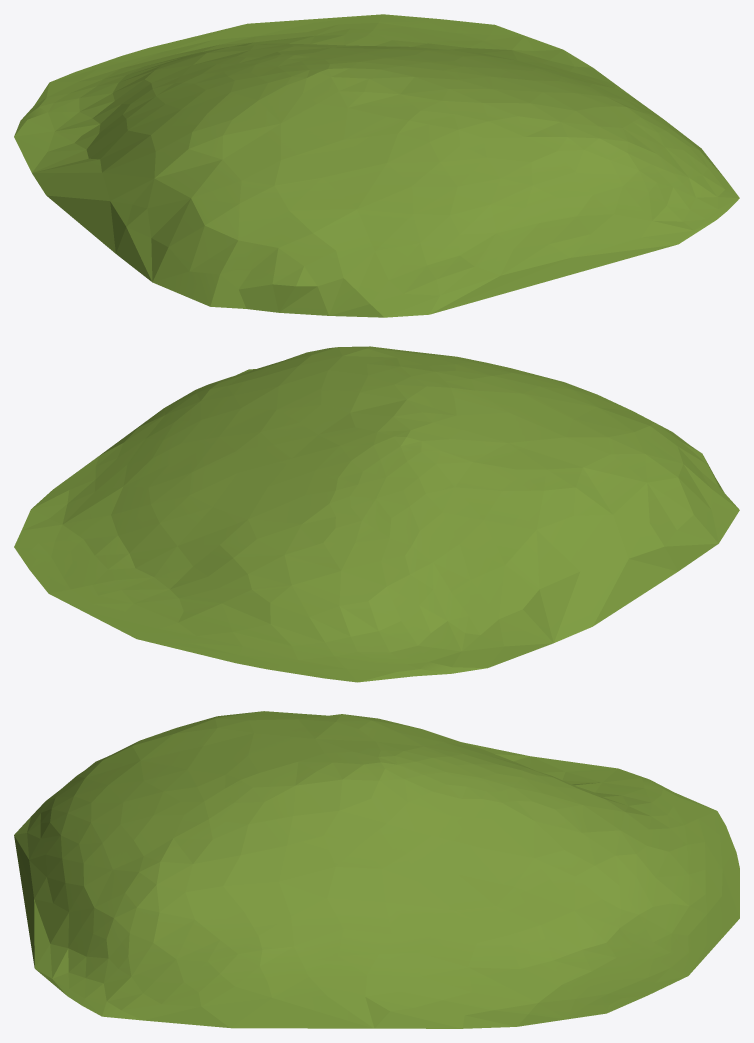
The model's file is Mesh_Landscape_Hill_03.FBX.
3 views of the same model, one above another, from view 1: azimuth 30°, elevation 25°; view 2: azimuth 150°, elevation 25°; view 3: azimuth 270°, elevation 25° (orthographic). The views are drawn at different scales.
Visible parts, largest first — view 1: Mesh_Landscape_Hill_03; view 2: Mesh_Landscape_Hill_03; view 3: Mesh_Landscape_Hill_03.
Boxes of the visible parts, x1,y1,x2,y2 form: Mesh_Landscape_Hill_03: (14,14,739,317); Mesh_Landscape_Hill_03: (14,346,739,682); Mesh_Landscape_Hill_03: (14,711,739,1028).
Size of the model in its own units: 1923 by 2079 by 333.
